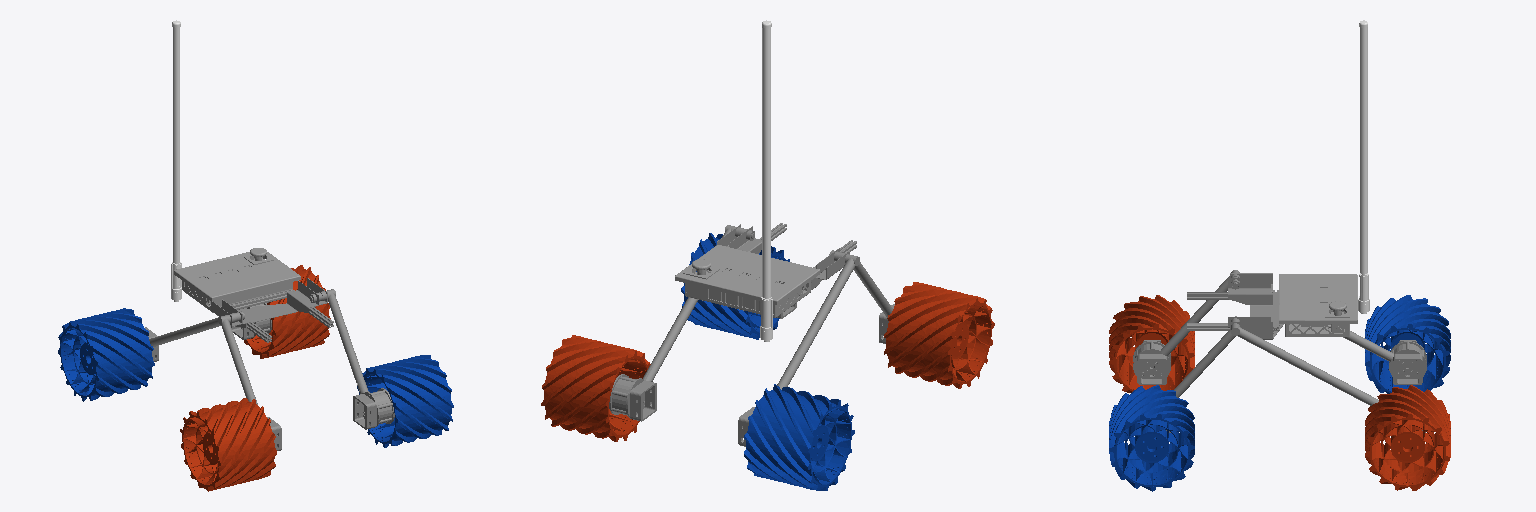
--- What the picture shows (computed from the rendered views, not written in the file) ---
Views: 3 orthographic renders of the robot side by side, from view 1: azimuth 30°, elevation 25°; view 2: azimuth 150°, elevation 25°; view 3: azimuth 270°, elevation 25°.
Robot: onshape — 39 links, 38 joints (2 revolute, 4 continuous, 32 fixed); root link body; default pose: all joints at 0.
Links seen in each view (by area): view 1: fullwheelccw, fullwheelcw, fullwheelcw_2, composite_part_1, fullwheelccw_2, body, antenna, suspensionright, drivetrainfrontleftcomposite, suspensionleft; view 2: fullwheelcw, fullwheelccw, fullwheelccw_2, composite_part_1, antenna, fullwheelcw_2, suspensionright, drivetrainbackleftcomposite, body, suspensionleft, radio; view 3: fullwheelccw_2, fullwheelcw_2, fullwheelcw, fullwheelccw, composite_part_1, body, suspensionleft, antenna, drivetrainbackrightcomposite, drivetrainfrontrightcomposite, suspensionright.
Boxes of the visible links, x1,y1,x2,y2 form: fullwheelccw: [180, 398, 276, 491]; fullwheelcw: [58, 308, 154, 401]; fullwheelcw_2: [357, 355, 453, 447]; composite_part_1: [174, 248, 300, 312]; fullwheelccw_2: [244, 265, 330, 358]; body: [211, 278, 333, 342]; antenna: [172, 20, 180, 262]; suspensionright: [149, 311, 257, 404]; drivetrainfrontleftcomposite: [353, 378, 394, 429]; suspensionleft: [309, 289, 368, 393]; fullwheelcw: [744, 384, 854, 490]; fullwheelccw: [884, 282, 994, 388]; fullwheelccw_2: [541, 335, 650, 441]; composite_part_1: [675, 245, 819, 317]; antenna: [762, 20, 771, 297]; fullwheelcw_2: [681, 233, 789, 339]; suspensionright: [777, 250, 892, 389]; drivetrainbackleftcomposite: [609, 367, 656, 421]; body: [717, 223, 856, 289]; suspensionleft: [643, 225, 754, 381]; radio: [760, 297, 772, 341]; fullwheelccw_2: [1365, 385, 1450, 490]; fullwheelcw_2: [1109, 385, 1194, 491]; fullwheelcw: [1365, 295, 1450, 393]; fullwheelccw: [1109, 295, 1194, 392]; composite_part_1: [1279, 274, 1357, 336]; body: [1187, 273, 1283, 339]; suspensionleft: [1174, 316, 1378, 405]; antenna: [1359, 20, 1367, 273]; drivetrainbackrightcomposite: [1377, 340, 1426, 384]; drivetrainfrontrightcomposite: [1133, 340, 1176, 384]; suspensionright: [1161, 270, 1393, 361].
Size in the robot's own frame: 0.914 by 1.11 by 1.4 metres.
Meshes: 13 distinct files referenced, 14 mesh visuals loaded (12 OBJ); not drawn: 5 (reference not matched to a file when rendering).

robot.urdf — onshape:
<robot name="onshape">

    <!-- <link name="world"/>

    <joint name="fixed" type="fixed">
        <parent link="world"/>
        <child link="body"/>
    </joint> -->

    <link name="body">
        <visual>
            <origin xyz="-0.012205647980743236647 -0.055342155193400160984 -0.11817610704853404036" rpy="0 -0 0" />
            <geometry>
                <mesh filename="meshes/body.obj"/>
            </geometry>
            <material name="body_material">
                <color rgba="0.5999999999999999778 0.5999999999999999778 0.5999999999999999778 1.0"/>
            </material>
        </visual>
        <!-- <collision>
            <origin xyz="0 0 0" rpy="0 -0 0" />  
            <geometry>
                <box size="0.1 0.1 0.1"/> 
            </geometry>
        </collision> -->
        <inertial>
            <origin xyz="0.013911591318139564233 0.14239094114380437817 -0.19577043666910912134" rpy="0 0 0"/>
            <mass value="0.93969833283231496424" />
            <inertia ixx="0.005994119293119408963" ixy="3.267775851214450012e-09" ixz="-2.7374181039632634978e-09" iyy="0.01324903424271485497" iyz="0.00032243412671214058667" izz="0.018549563223916550048" />
        </inertial>
    </link>

    <link name="suspensionleft">
        <visual>
            <origin xyz="-0.024612609458237885707 -0.0061949605951774067147 -0.18932959409960492536" rpy="-1.570796326794896558 -1.570796326794896558 0" />
            <geometry>
                <mesh filename="meshes/suspensionleft.obj"/>
            </geometry>
            <material name="suspensionleft_material">
                <color rgba="0.5999999999999999778 0.5999999999999999778 0.5999999999999999778 1.0"/>
            </material>
        </visual>
        <!-- <collision>
            <origin xyz="0 0 0" rpy="0 -0 0" />
            <geometry>
                <box size="0.1 0.1 0.1"/>
            </geometry>
        </collision> -->
        <inertial>
            <origin xyz="0.076832758681898538633 -0.096541141320755960442 0.011159030542809367237" rpy="0 0 0"/>
            <mass value="0.5006887550776022433" />
            <inertia ixx="0.0047535578781225072686" ixy="0.0039141042657135360905" ixz="-0.0003593170428973182411" iyy="0.017421602330455487201" iyz="0.00045149887395140190843" izz="0.021710763858302777052" />
        </inertial>
    </link>

    <link name="suspensionright">
        <visual>
            <origin xyz="-0.025991029583464636543 0.0033361923420151540221 -0.19281263685299121491" rpy="1.570796326794896558 1.570796326794896558 0" />
            <geometry>
                <mesh filename="meshes/suspensionright.obj"/>
            </geometry>
            <material name="suspensionright_material">
                <color rgba="0.5999999999999999778 0.5999999999999999778 0.5999999999999999778 1.0"/>
            </material>
        </visual>
        <!-- <collision>
            <origin xyz="-0.025991029583464636543 0.0033361923420151540221 -0.19281263685299121491" rpy="1.570796326794896558 1.570796326794896558 0" />
            <geometry>
                <mesh filename="meshes/suspensionright.obj"/>
            </geometry>
        <collision> -->
        <inertial>
            <origin xyz="0.076832938933751634969 0.096542274602325256483 0.011159331889716933572" rpy="0 0 0"/>
            <mass value="0.5006823809574474371" />
            <inertia ixx="0.0047535066761262472282" ixy="-0.0039140893355142300503" ixz="-0.00035933916185725185439" iyy="0.017421591836638574552" iyz="-0.00045150806146396102415" izz="0.021710693830293757017" />
        </inertial>
    </link>

    <joint name="suspension_left" type="revolute">
        <origin xyz="0.201911706720504458 0.092132180163690832742 -0.16260437190083004699" rpy="1.57079632679489678 -0 1.570796326794896558" />
        <parent link="body" />
        <child link="suspensionleft" />
        <axis xyz="0 0 1"/>
        <limit effort="100" velocity="20" lower="-0.52359877559 " upper="0.52359877559 "/>
        <joint_properties friction="0.0"/>
    </joint>

    <joint name="suspension_right" type="revolute">
        <origin xyz="-0.17408829327949054688 0.092132180163690846619 -0.16260437190083004699" rpy="-1.57079632679489678 -0 1.570796326794896558" />
        <parent link="body" />
        <child link="suspensionright" />
        <axis xyz="0 0 1"/>
        <limit effort="100" velocity="20" lower="-0.52359877559 " upper="0.52359877559 "/>
        <joint_properties friction="0.0"/>
    </joint>

    <link name="drivetrainbackrightcomposite">
        <visual>
            <origin xyz="-0.055255734160595336435 -0.052521626027595219588 -0.044870909561400051935" rpy="2.7755575615628869137e-16 -1.0471975511965976313 -4.9985380417640256227e-31" />
            <geometry>
                <mesh filename="meshes/drivetrainbackrightcomposite.obj"/>
            </geometry>
            <material name="drivetrainbackrightcomposite_material">
                <color rgba="0.5999999999999999778 0.5999999999999999778 0.5999999999999999778 1.0"/>
            </material>
        </visual>
        <!-- <collision>
            <origin xyz="-0.055255734160595336435 -0.052521626027595219588 -0.044870909561400051935" rpy="2.7755575615628869137e-16 -1.0471975511965976313 -4.9985380417640256227e-31" />
            <geometry>
                <mesh filename="meshes/drivetrainbackrightcomposite.obj"/>
            </geometry>
        <collision> -->
        <inertial>
            <origin xyz="0.015160736116931118611 -0.048352397480376667349 -0.083822623874481111406" rpy="0 0 0"/>
            <mass value="1.472999999999999865" />
            <inertia ixx="0.0056724243816014185623" ixy="-1.8135279944722993356e-05" ixz="-5.4028844232515525086e-05" iyy="0.0023840118856034565702" iyz="-8.5986783689443783648e-05" izz="0.005426627643422970125" />
        </inertial>
    </link>

    <link name="fullwheelcw">
        <contact>
            <lateral_friction value="1.0"/>
            <rolling_friction value="0.0"/>
            <stiffness value="30000"/>
            <damping value="1000"/>
        </contact>
        <visual>
            <origin xyz="0.0010673116951942507313 9.0479086787831342065e-05 0.0069517412411607137912" rpy="1.570796326794896558 1.570796326794896558 0" />
            <geometry>
                <mesh filename="meshes/fullwheelcw.obj"/>
            </geometry>
            <material name="fullwheelcw_material">
                <color rgba="0.08627450980392156743 0.31764705882352939348 0.69019607843137253944 1.0"/>
            </material>
        </visual>
        <collision>
            <geometry>
                <cylinder radius="0.125" length="0.220"/>
            </geometry>
        </collision>
        <inertial>
            <origin xyz="0.00042284219983780720574 -1.3273663729550548226e-08 -0.012448988962470271258" rpy="0 0 0"/>
            <mass value="3.5971729152518081563" />
            <inertia ixx="0.032711338109240588323" ixy="8.2687966679208047654e-08" ixz="1.6637247418929947719e-07" iyy="0.032711305020489800377" iyz="6.5481644600122309755e-08" izz="0.042781901331620936224" />
        </inertial>
    </link>

    <joint name="Fastened 1" type="fixed">
        <origin xyz="-0.22804336612550335506 0.24890712350835714206 0.023500000000000964562" rpy="1.5707963267948974462 1.1024596127327680454e-15 -2.4434609527920638783" />
        <parent link="suspensionright" />
        <child link="drivetrainfrontrightcomposite" />
        <axis xyz="0 0 1"/>
        <limit effort="100" velocity="20" />
        <joint_properties friction="0.0"/>
    </joint>

    <joint name="Fastened 2" type="fixed">
        <origin xyz="0.49492077744209195256 -0.26877206787608454164 0.023500000000003934408" rpy="1.57079632679489678 -1.423223005595372339e-16 1.0471975725922655354" />
        <parent link="suspensionleft" />
        <child link="drivetrainbackleftcomposite" />
        <axis xyz="0 0 1"/>
        <limit effort="100" velocity="20" />
        <joint_properties friction="0.0"/>
    </joint>

    <joint name="Fastened 3" type="fixed">
        <origin xyz="-0.22804336066742364464 -0.24890712891410071705 0.017500000000004012346" rpy="-1.57079632679489678 1.3230120027736914552e-16 -0.69813167940206133366" />
        <parent link="suspensionleft" />
        <child link="drivetrainfrontleftcomposite" />
        <axis xyz="0 0 1"/>
        <limit effort="100" velocity="20" />
        <joint_properties friction="0.0"/>
    </joint>

    <joint name="Fastened 4" type="fixed">
        <origin xyz="0.49492077155898839269 0.26877207793864221763 0.017500000000000986988" rpy="-1.5707963267948947816 -1.9713546364917863891e-15 2.094395102393197039" />
        <parent link="suspensionright" />
        <child link="drivetrainbackrightcomposite" />
        <axis xyz="0 0 1"/>
        <limit effort="100" velocity="20" />
        <joint_properties friction="0.0"/>
    </joint>

    <link name="drivetrainfrontrightcomposite">
        <visual>
            <origin xyz="0.036874942290070031325 0.046521626027595186503 0.022965534814974986055" rpy="3.141592653589793116 -0.69813170079773145815 2.8158177467239876177e-31" />
            <geometry>
                <mesh filename="meshes/drivetrainfrontrightcomposite.obj"/>
            </geometry>
            <material name="drivetrainfrontrightcomposite_material">
                <color rgba="0.5999999999999999778 0.5999999999999999778 0.5999999999999999778 1.0"/>
            </material>
        </visual>
        <!-- <collision>
            <origin xyz="0.036874942290070031325 0.046521626027595186503 0.022965534814974986055" rpy="3.141592653589793116 -0.69813170079773145815 2.8158177467239876177e-31" />
            <geometry>
                <mesh filename="meshes/drivetrainfrontrightcomposite.obj"/>
            </geometry>
        <collision> -->
        <inertial>
            <origin xyz="-0.015126077303788523776 0.04235239748037666202 0.083863928639558715794" rpy="0 0 0"/>
            <mass value="1.4730000000000003091" />
            <inertia ixx="0.0056290767536875327415" ixy="-1.2888099697659449418e-05" ixz="-6.1776263530126349923e-05" iyy="0.0023841865239638184576" iyz="-7.9733437779013998487e-05" izz="0.0054701499096972217365" />
        </inertial>
    </link>

    <link name="fullwheelccw">
        <contact>
            <lateral_friction value="1.0"/>
            <rolling_friction value="0.0"/>
            <stiffness value="30000"/>
            <damping value="1000"/>
        </contact>
        <visual>
            <origin xyz="0.00064188952092514295344 9.0479086786887652494e-05 0.0069517412411601031685" rpy="1.570796326794896558 1.570796326794896558 0" />
            <geometry>
                <mesh filename="meshes/fullwheelccw.obj"/>
            </geometry>
            <material name="fullwheelccw_material">
                <color rgba="0.72941176470588231506 0.25098039215686274161 0.10588235294117646912 1.0"/>
            </material>
        </visual>
        <collision>
            <geometry>
                <cylinder radius="0.125" length="0.220"/>
            </geometry>
        </collision>
        <inertial>
            <origin xyz="-2.5804613597969049216e-06 -1.249511817379481398e-08 -0.012441966173356872744" rpy="0 0 0"/>
            <mass value="3.5970896392687663479" />
            <inertia ixx="0.032710291812593488003" ixy="8.2697549461937102879e-08" ixz="1.6634211468960172099e-07" iyy="0.032710258685206605733" iyz="6.5538652170295507855e-08" izz="0.042780970522897796005" />
        </inertial>
    </link>

    <link name="drivetrainbackleftcomposite">
        <visual>
            <origin xyz="0.055017619072556811499 0.046521626027595242014 0.044458482130868337556" rpy="3.141592653589793116 -1.0471975511965980754 -2.2276305912043795656e-32" />
            <geometry>
                <mesh filename="meshes/drivetrainbackleftcomposite.obj"/>
            </geometry>
            <material name="drivetrainbackleftcomposite_material">
                <color rgba="0.5999999999999999778 0.5999999999999999778 0.5999999999999999778 1.0"/>
            </material>
        </visual>
        <!-- <collision>
            <origin xyz="0.055017619072556811499 0.046521626027595242014 0.044458482130868337556" rpy="3.141592653589793116 -1.0471975511965980754 -2.2276305912043795656e-32" />
            <geometry>
                <mesh filename="meshes/drivetrainbackleftcomposite.obj"/>
            </geometry>
        <collision> -->
        <inertial>
            <origin xyz="-0.015166693587829377377 0.042352397480376745287 0.083812305232200456917" rpy="0 0 0"/>
            <mass value="1.473000000000000087" />
            <inertia ixx="0.005671428823032622149" ixy="-1.7631921293790583032e-05" ixz="-5.4565847567393985207e-05" iyy="0.0023839682579308196959" iyz="-8.5114940931593571099e-05" izz="0.005427579574319136603" />
        </inertial>
    </link>

    <link name="fullwheelccw_2">
        <contact>
            <lateral_friction value="1.0"/>
            <rolling_friction value="0.0"/>
            <stiffness value="30000"/>
            <damping value="1000"/>
        </contact>
        <visual>
            <origin xyz="0.0010673116951952499321 9.0479086786887652494e-05 0.0069517412411599921462" rpy="1.570796326794896558 1.570796326794896558 0" />
            <geometry>
                <mesh filename="meshes/fullwheelccw.obj"/>
            </geometry>
            <material name="fullwheelccw_material">
                <color rgba="0.72941176470588231506 0.25098039215686274161 0.10588235294117646912 1.0"/>
            </material>
        </visual>
        <collision>
            <geometry>
                <cylinder radius="0.125" length="0.220"/>
            </geometry>
        </collision>
        <inertial>
            <origin xyz="0.00042284171291031013044 -1.249511817379481398e-08 -0.012441966173356983766" rpy="0 0 0"/>
            <mass value="3.5970896392687663479" />
            <inertia ixx="0.032710291812593488003" ixy="8.2697549460927121968e-08" ixz="1.6634211468960172099e-07" iyy="0.032710258685206605733" iyz="6.5538652170295507855e-08" izz="0.042780970522897796005" />
        </inertial>
    </link>

    <link name="drivetrainfrontleftcomposite">
        <visual>
            <origin xyz="-0.037239755770099761123 -0.052521626027595164077 -0.02327164967151634789" rpy="1.8116165364127612567e-16 -0.69813170079773156917 -2.0380041590265052002e-32" />
            <geometry>
                <mesh filename="meshes/drivetrainfrontleftcomposite.obj"/>
            </geometry>
            <material name="drivetrainfrontleftcomposite_material">
                <color rgba="0.5999999999999999778 0.5999999999999999778 0.5999999999999999778 1.0"/>
            </material>
        </visual>
        <!-- <collision>
            <origin xyz="-0.037239755770099761123 -0.052521626027595164077 -0.02327164967151634789" rpy="1.8116165364127612567e-16 -0.69813170079773156917 -2.0380041590265052002e-32" />
            <geometry>
                <mesh filename="meshes/drivetrainfrontleftcomposite.obj"/>
            </geometry>
        <collision> -->
        <inertial>
            <origin xyz="0.015128955598800702953 -0.048369207552535577188 -0.083889296331070617452" rpy="0 0 0"/>
            <mass value="1.4730000000000005311" />
            <inertia ixx="0.0056191590672057620953" ixy="-1.3502374493624255875e-05" ixz="-6.1654655440375859417e-05" iyy="0.0023828396945476375962" iyz="-8.0372217871712244085e-05" izz="0.0054582960890861599579" />
        </inertial>
    </link>

    <link name="fullwheelcw_2">
        <contact>
            <lateral_friction value="1.0"/>
            <rolling_friction value="0.0"/>
            <stiffness value="30000"/>
            <damping value="1000"/>
        </contact>
        <visual>
            <origin xyz="0.000641889520924060486 9.0479086787831342065e-05 0.0069517412411607137912" rpy="1.570796326794896558 1.570796326794896558 0" />
            <geometry>
                <mesh filename="meshes/fullwheelcw.obj"/>
            </geometry>
            <material name="fullwheelcw_material">
                <color rgba="0.08627450980392156743 0.31764705882352939348 0.69019607843137253944 1.0"/>
            </material>
        </visual>
        <collision>
            <geometry>
                <cylinder radius="0.125" length="0.220"/>
            </geometry>
        </collision>
        <inertial>
            <origin xyz="-2.5799744323831480183e-06 -1.3273663729550548226e-08 -0.012448988962470271258" rpy="0 0 0"/>
            <mass value="3.5971729152518081563" />
            <inertia ixx="0.032711338109240602201" ixy="8.2687966679208060889e-08" ixz="1.6637247418929950366e-07" iyy="0.032711305020489800377" iyz="6.5481644600122309755e-08" izz="0.042781901331620936224" />
        </inertial>
    </link>

    <joint name="FL_wheel" type="continuous">
        <origin xyz="0.015000000000000068834 -0.14149999999999993139 -0.085158124970780124663" rpy="1.570796326794896336 0.698131700797730681 -3.141592653589793116" />
        <parent link="drivetrainfrontleftcomposite" />
        <child link="fullwheelcw_2" />
        <axis xyz="0 0 1"/>
        <limit effort="100" velocity="20" />
        <joint_properties friction="0.0"/>
    </joint>

    <joint name="FR_wheel" type="continuous">
        <origin xyz="-0.015000000000000124345 0.13549999999999981504 0.085158124970780124663" rpy="-1.5707963267948972241 0.91539518778788819819 -3.1415926535897891192" />
        <parent link="drivetrainfrontrightcomposite" />
        <child link="fullwheelccw" />
        <axis xyz="0 0 1"/>
        <limit effort="100" velocity="20" />
        <joint_properties friction="0.0"/>
    </joint>

    <joint name="BL_wheel" type="continuous">
        <origin xyz="-0.015000000000000041078 0.13550000000000000933 0.085158124970780235685" rpy="-1.57079632679489678 1.0471975511965980754 3.141592653589793116" />
        <parent link="drivetrainbackleftcomposite" />
        <child link="fullwheelccw_2" />
        <axis xyz="0 0 1"/>
        <limit effort="100" velocity="20" />
        <joint_properties friction="0.0"/>
    </joint>

    <joint name="BR_wheel" type="continuous">
        <origin xyz="0.015000000000000263123 -0.1414999999999999869 -0.08515812497078045773" rpy="-1.5707963267948972241 -1.0471975511965978534 -9.7782227765798730881e-16" />
        <parent link="drivetrainbackrightcomposite" />
        <child link="fullwheelcw" />
        <axis xyz="0 0 1"/>
        <limit effort="100" velocity="20" />
        <joint_properties friction="0.0"/>
    </joint>

    <link name="radio">
        <visual>
            <origin xyz="0 0 0" rpy="1.570796326794896558 1.570796326794896558 0" />
            <geometry>
                <mesh filename="meshes/radio.obj"/>
            </geometry>
            <material name="radio_material">
                <color rgba="0.91764705882352937127 0.91764705882352937127 0.91764705882352937127 1.0"/>
            </material>
        </visual>
        <!-- <collision>
            <origin xyz="0 0 -0.041583953201770773589" rpy="1.570796326794896558 1.570796326794896558 0" />
            <geometry>
                <mesh filename="meshes/radio.obj"/>
            </geometry>
        </collision> -->
        <inertial>
            <origin xyz="0.00010263180776510683772 1.5858306326318977992e-19 -0.064223809060228773116" rpy="0 0 0"/>
            <mass value="0.2000000000000000111" />
            <inertia ixx="0.0003438073516519237361" ixy="6.2564772459245114566e-13" ixz="4.6188093671132065139e-07" iyy="0.00034138009881940292473" iyz="1.0028265943778459841e-29" izz="2.9206610625845624249e-05" />
        </inertial>
    </link>

    <link name="antenna">
        <visual>
            <origin xyz="0 0 0" rpy="-3.141592653589793116 2.4651903288156618919e-32 -1.0263416486754031281e-48" />
            <geometry>
                <mesh filename="meshes/antenna.obj"/>
            </geometry>
            <material name="antenna_material">
                <color rgba="0.91764705882352937127 0.91764705882352937127 0.91764705882352937127 1.0"/>
            </material>
        </visual>
        <!-- <collision>
            <origin xyz="0 0 0" rpy="-3.141592653589793116 2.4651903288156618919e-32 -1.0263416486754031281e-48" />
            <geometry>
                <mesh filename="meshes/antenna.obj"/>
            </geometry>
        </collision> -->
        <inertial>
            <origin xyz="-6.8251831286560820793e-20 -4.066818113829203339e-34 -0.45156705972675820204" rpy="0 0 0"/>
            <mass value="0.2000000000000000111" />
            <inertia ixx="0.013597825750077315379" ixy="-1.1398185877625000259e-50" ixz="-3.3427021854614069393e-34" iyy="0.013597825750077315379" iyz="1.3002083728230348252e-35" izz="1.6984341496596089196e-05" />
        </inertial>
    </link>

    <joint name="antennaMount" type="fixed">
        <origin xyz="0 0 -0.095" rpy="1.6028614105982569444e-17 -2.7755575615628923371e-16 1.570796326794896558" />
        <parent link="radio" />
        <child link="antenna" />
        <axis xyz="0 0 1"/>
        <limit effort="1" velocity="20" />
        <joint_properties friction="0.0"/>
    </joint>

    <joint name="radioMount" type="fixed">
        <origin xyz="-0.14 0.51 -0.22" rpy="3.141592653589793116 -0 1.570796326794896558" />
        <parent link="body" />
        <child link="radio" />
        <axis xyz="0 0 1"/>
        <limit effort="1" velocity="20" />
        <joint_properties friction="0.0"/>
    </joint>

    <link name="composite_part_1">
        <visual>
            <origin xyz="-0.16073232144117299836 -0.059365964434146906159 -0.15181500660255600743" rpy="-1.570796326794896558 -1.570796326794896558 0" />
            <geometry>
                <mesh filename="meshes/composite_part_1.obj"/>
            </geometry>
            <material name="composite_part_1_material">
                <color rgba="0.64705882352941179736 0.64705882352941179736 0.64705882352941179736 1.0"/>
            </material>
        </visual>
        <!-- <collision>
            <origin xyz="-0.16073232144117299836 -0.059365964434146906159 -0.15181500660255600743" rpy="-1.570796326794896558 -1.570796326794896558 0" />
            <geometry>
                <mesh filename="meshes/composite_part_1.obj"/>
            </geometry>
        </collision> -->
        <inertial>
            <origin xyz="-0.14843120397544637412 -0.03313609078625730231 -0.1327673590939615067" rpy="0 0 0"/>
            <mass value="5" />
            <inertia ixx="0.035826618092101997215" ixy="7.3930220078261677354e-05" ixz="-0.0012079392198400722494" iyy="0.047050418881050992681" iyz="0.000654396315728909936" izz="0.016056029795435775714" />
        </inertial>
    </link>

    <joint name="batteryBox" type="fixed">
        <origin xyz="-0.1426882932794905634 0.23373218016369090577 -0.14420437190083026935" rpy="1.57079632679489678 -0 -1.570796326794896558" />
        <parent link="body" />
        <child link="composite_part_1" />
        <axis xyz="0 0 1"/>
        <limit effort="1" velocity="20" />
        <joint_properties friction="0.0"/>
    </joint>

    <joint name="camera_front_camera_joint" type="fixed">
        <origin rpy="0 0.26179938779  -1.57079632679" xyz="-0.01371171  -0.06 -0.19"/>
        <parent link="body"/>
        <child link="camera_front_camera"/>
    </joint>

    <link name="camera_front_camera">
        <visual>
            <origin rpy="0 0 0" xyz="0.0 0.0 0.0"/>
            <geometry>
                <mesh filename="package://anymal_c_simple_description/meshes/depth_camera.dae" scale="1.0 1.0 1.0"/>
            </geometry>
        </visual>
        <inertial>
            <origin rpy="0 0 0" xyz="-0.021 -0.002 0.025"/>
            <mass value="0.16043"/>
            <inertia ixx="0.000637051" ixy="0.000484569" ixz="0.000424211" iyy="0.000929402" iyz="5.138e-06" izz="0.000484569"/>
        </inertial>
    </link>
    <joint name="camera_front_camera_to_camera_parent" type="fixed">
        <parent link="camera_front_camera"/>
        <child link="camera_front_camera_parent"/>
        <origin rpy="0.0 0.0 0.0" xyz="0.0255 0.0175 0.0"/>
    </joint>
    <link name="camera_front_camera_parent" model="d435i" serial_number="dummy" sensor="cameraRGB.xml"/>
    <joint name="camera_front_camera_parent_to_optical_frame" type="fixed">
        <parent link="camera_front_camera_parent"/>
        <child link="camera_front_optical_frame"/>
        <origin rpy="-1.57079632679 0.0 -1.57079632679" xyz="0.0 0.0 0.0"/>
    </joint>
    <link name="camera_front_optical_frame"/>
    <joint name="camera_front_camera_parent_to_color_frame" type="fixed">
        <parent link="camera_front_camera_parent"/>
        <child link="camera_front_color_frame"/>
        <origin rpy="0 0 0" xyz="0 0.015 0"/>
    </joint>
    <link name="camera_front_color_frame"/>
    <joint name="camera_front_color_frame_to_color_optical_frame" type="fixed">
        <parent link="camera_front_color_frame"/>
        <child link="camera_front_color_optical_frame"/>
        <origin rpy="-1.57079632679 0.0 -1.57079632679" xyz="0.0 0.0 0.0"/>
    </joint>
    <link name="camera_front_color_optical_frame"/>


    <joint name="camera_rear_camera_joint" type="fixed">
        <origin rpy="0 0.31415926535 1.57079632679" xyz="-0.01371171  0.5 -0.19"/>
        <parent link="body"/>
        <child link="camera_rear_camera"/>
    </joint>

    <link name="camera_rear_camera">
        <visual>
            <origin rpy="0 0 0" xyz="0.0 0.0 0.0"/>
            <geometry>
                <mesh filename="package://anymal_c_simple_description/meshes/depth_camera.dae" scale="1.0 1.0 1.0"/>
            </geometry>
        </visual>
        <inertial>
            <origin rpy="0 0 0" xyz="-0.021 -0.002 0.025"/>
            <mass value="0.16043"/>
            <inertia ixx="0.000637051" ixy="0.000484569" ixz="0.000424211" iyy="0.000929402" iyz="5.138e-06" izz="0.000484569"/>
        </inertial>
    </link>
    <joint name="camera_rear_camera_to_camera_parent" type="fixed">
        <parent link="camera_rear_camera"/>
        <child link="camera_rear_camera_parent"/>
        <origin rpy="0.0 0.0 0.0" xyz="0.0255 0.0175 0.0"/>
    </joint>
    <link name="camera_rear_camera_parent" model="d435i" serial_number="dummy" sensor="cameraRGB.xml"/>
    <joint name="camera_rear_camera_parent_to_optical_frame" type="fixed">
        <parent link="camera_rear_camera_parent"/>
        <child link="camera_rear_optical_frame"/>
        <origin rpy="-1.57079632679 0.0 -1.57079632679" xyz="0.0 0.0 0.0"/>
    </joint>
    <link name="camera_rear_optical_frame"/>
    <joint name="camera_rear_camera_parent_to_color_frame" type="fixed">
        <parent link="camera_rear_camera_parent"/>
        <child link="camera_rear_color_frame"/>
        <origin rpy="0 0 0" xyz="0 0.015 0"/>
    </joint>
    <link name="camera_rear_color_frame"/>
    <joint name="camera_rear_color_frame_to_color_optical_frame" type="fixed">
        <parent link="camera_rear_color_frame"/>
        <child link="camera_rear_color_optical_frame"/>
        <origin rpy="-1.57079632679 0.0 -1.57079632679" xyz="0.0 0.0 0.0"/>
    </joint>
    <link name="camera_rear_color_optical_frame"/>

    <joint name="camera_below_camera_joint" type="fixed">
        <origin rpy="1.57079632679 1.57079632679 1.57079632679" xyz="-0.01371171  0.18 -0.24"/>
        <parent link="body"/>
        <child link="camera_below_camera"/>
    </joint>

    <link name="camera_below_camera">
        <visual>
            <origin rpy="0 0 0" xyz="0.0 0.0 0.0"/>
            <geometry>
                <mesh filename="package://anymal_c_simple_description/meshes/depth_camera.dae" scale="1.0 1.0 1.0"/>
            </geometry>
        </visual>
        <inertial>
            <origin rpy="0 0 0" xyz="-0.021 -0.002 0.025"/>
            <mass value="0.16043"/>
            <inertia ixx="0.000637051" ixy="0.000484569" ixz="0.000424211" iyy="0.000929402" iyz="5.138e-06" izz="0.000484569"/>
        </inertial>
    </link>
    <joint name="camera_below_camera_to_camera_parent" type="fixed">
        <parent link="camera_below_camera"/>
        <child link="camera_below_camera_parent"/>
        <origin rpy="0.0 0.0 0.0" xyz="0.0255 0.0175 0.0"/>
    </joint>
    <link name="camera_below_camera_parent" model="d435i" serial_number="dummy" sensor="cameraRGBWide.xml"/>
    <joint name="camera_below_camera_parent_to_optical_frame" type="fixed">
        <parent link="camera_below_camera_parent"/>
        <child link="camera_below_optical_frame"/>
        <origin rpy="-1.57079632679 0.0 -1.57079632679" xyz="0.0 0.0 0.0"/>
    </joint>
    <link name="camera_below_optical_frame"/>
    <joint name="camera_below_camera_parent_to_color_frame" type="fixed">
        <parent link="camera_below_camera_parent"/>
        <child link="camera_below_color_frame"/>
        <origin rpy="0 0 0" xyz="0 0.015 0"/>
    </joint>
    <link name="camera_below_color_frame"/>
    <joint name="camera_below_color_frame_to_color_optical_frame" type="fixed">
        <parent link="camera_below_color_frame"/>
        <child link="camera_below_color_optical_frame"/>
        <origin rpy="-1.57079632679 0.0 -1.57079632679" xyz="0.0 0.0 0.0"/>
    </joint>
    <link name="camera_below_color_optical_frame"/>

    


    <joint name="camera_above_camera_joint" type="fixed">
        <origin rpy="0.0 0.75 -1.45" xyz="-0.135 0.52 0.81"/>
        <parent link="body"/>
        <child link="camera_above_camera"/>
    </joint>

    <link name="camera_above_camera">
        <visual>
            <origin rpy="0 0 0" xyz="0.0 0.0 0.0"/>
            <geometry>
                <mesh filename="package://anymal_c_simple_description/meshes/depth_camera.dae" scale="1.0 1.0 1.0"/>
            </geometry>
        </visual>
        <inertial>
            <origin rpy="0 0 0" xyz="-0.021 -0.002 0.025"/>
            <mass value="0.16043"/>
            <inertia ixx="0.000637051" ixy="0.000484569" ixz="0.000424211" iyy="0.000929402" iyz="5.138e-06" izz="0.000484569"/>
        </inertial>
    </link>
    <joint name="camera_above_camera_to_camera_parent" type="fixed">
        <parent link="camera_above_camera"/>
        <child link="camera_above_camera_parent"/>
        <origin rpy="0.0 0.0 0.0" xyz="0.0255 0.0175 0.0"/>
    </joint>
    <link name="camera_above_camera_parent" model="d435i" serial_number="dummy" sensor="cameraRGB.xml"/>
    <joint name="camera_above_camera_parent_to_optical_frame" type="fixed">
        <parent link="camera_above_camera_parent"/>
        <child link="camera_above_optical_frame"/>
        <origin rpy="-1.57079632679 0.0 -1.57079632679" xyz="0.0 0.0 0.0"/>
    </joint>
    <link name="camera_above_optical_frame"/>
    <joint name="camera_above_camera_parent_to_color_frame" type="fixed">
        <parent link="camera_above_camera_parent"/>
        <child link="camera_above_color_frame"/>
        <origin rpy="0 0 0" xyz="0 0.015 0"/>
    </joint>
    <link name="camera_above_color_frame"/>
    <joint name="camera_above_color_frame_to_color_optical_frame" type="fixed">
        <parent link="camera_above_color_frame"/>
        <child link="camera_above_color_optical_frame"/>
        <origin rpy="-1.57079632679 0.0 -1.57079632679" xyz="0.0 0.0 0.0"/>
    </joint>
    <link name="camera_above_color_optical_frame"/>

    




    <joint name="imu_camera_joint" type="fixed">
        <origin rpy="0.0 0.0 1.57079632679" xyz="-0.01371171  0.18 -0.18"/>
        <parent link="body"/>
        <child link="imu_camera"/>
    </joint>

    <link name="imu_camera">
        <visual>
            <origin rpy="0 0 0" xyz="0.0 0.0 0.0"/>
            <geometry>
                <mesh filename="package://anymal_c_simple_description/meshes/depth_camera.dae" scale="1.0 1.0 1.0"/>
            </geometry>
        </visual>
        <inertial>
            <origin rpy="0 0 0" xyz="-0.021 -0.002 0.025"/>
            <mass value="0.16043"/>
            <inertia ixx="0.000637051" ixy="0.000484569" ixz="0.000424211" iyy="0.000929402" iyz="5.138e-06" izz="0.000484569"/>
        </inertial>
    </link>
    <joint name="imu_camera_to_camera_parent" type="fixed">
        <parent link="imu_camera"/>
        <child link="imu_camera_parent"/>
        <origin rpy="0.0 0.0 0.0" xyz="0.0255 0.0175 0.0"/>
    </joint>
    <link name="imu_camera_parent" model="d435i" serial_number="dummy" sensor="imu.xml"/>
    <joint name="imu_camera_parent_to_optical_frame" type="fixed">
        <parent link="imu_camera_parent"/>
        <child link="imu_optical_frame"/>
        <origin rpy="-1.57079632679 0.0 -1.57079632679" xyz="0.0 0.0 0.0"/>
    </joint>
    <link name="imu_optical_frame"/>
    <joint name="imu_camera_parent_to_color_frame" type="fixed">
        <parent link="imu_camera_parent"/>
        <child link="imu_color_frame"/>
        <origin rpy="0 0 0" xyz="0 0.015 0"/>
    </joint>
    <link name="imu_color_frame"/>
    <joint name="imu_color_frame_to_color_optical_frame" type="fixed">
        <parent link="imu_color_frame"/>
        <child link="imu_color_optical_frame"/>
        <origin rpy="-1.57079632679 0.0 -1.57079632679" xyz="0.0 0.0 0.0"/>
    </joint>
    <link name="imu_color_optical_frame"/>
</robot>
